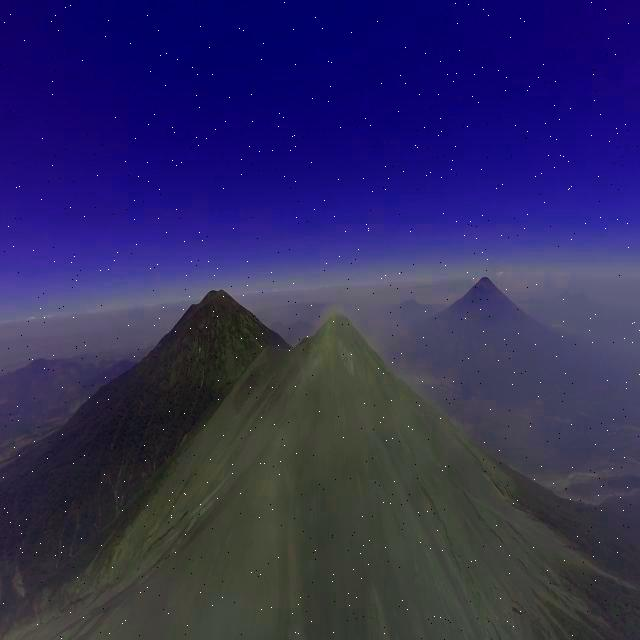Summit: (293, 308, 391, 381)
